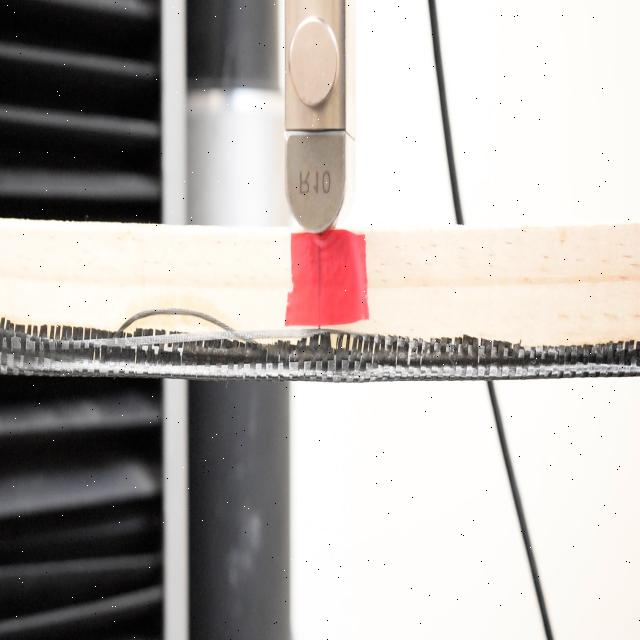wood: (3, 222, 640, 376)
